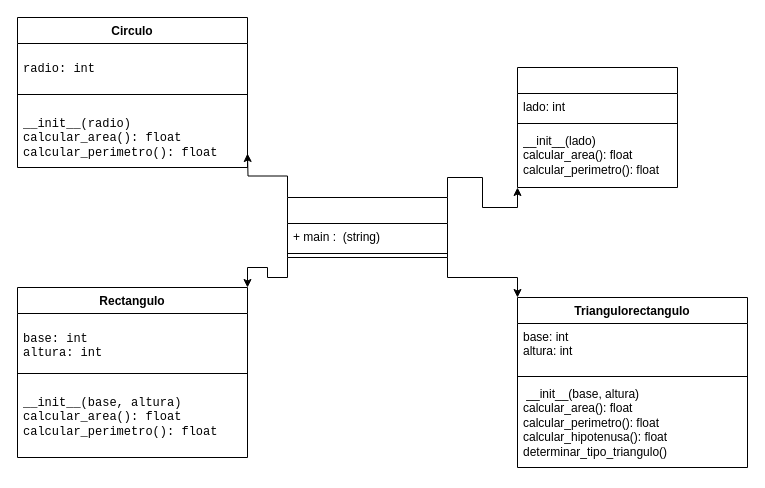
The diagram is 765 pixels wide and 488 high, and some of its shapes have lost their labels. The box of each missing label's shape, as (x1, y1, x2, y2) in pixels:
Cuadrado: (516, 66, 678, 188)
Prueba figuras: (286, 196, 448, 258)
